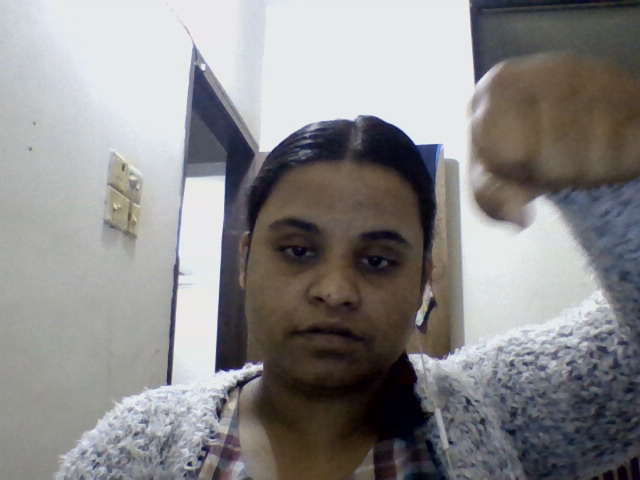Yes: (454, 6, 640, 218)
